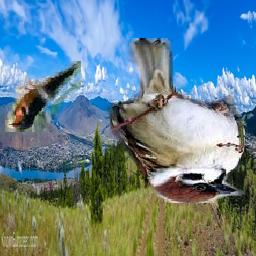Sparrow: (107, 39, 245, 204)
Swallow: (5, 62, 81, 133)
